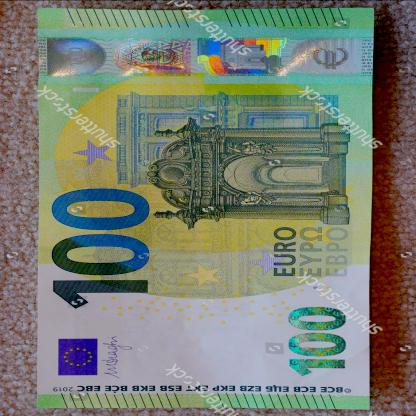euro_banknote: (4, 43, 407, 377)
